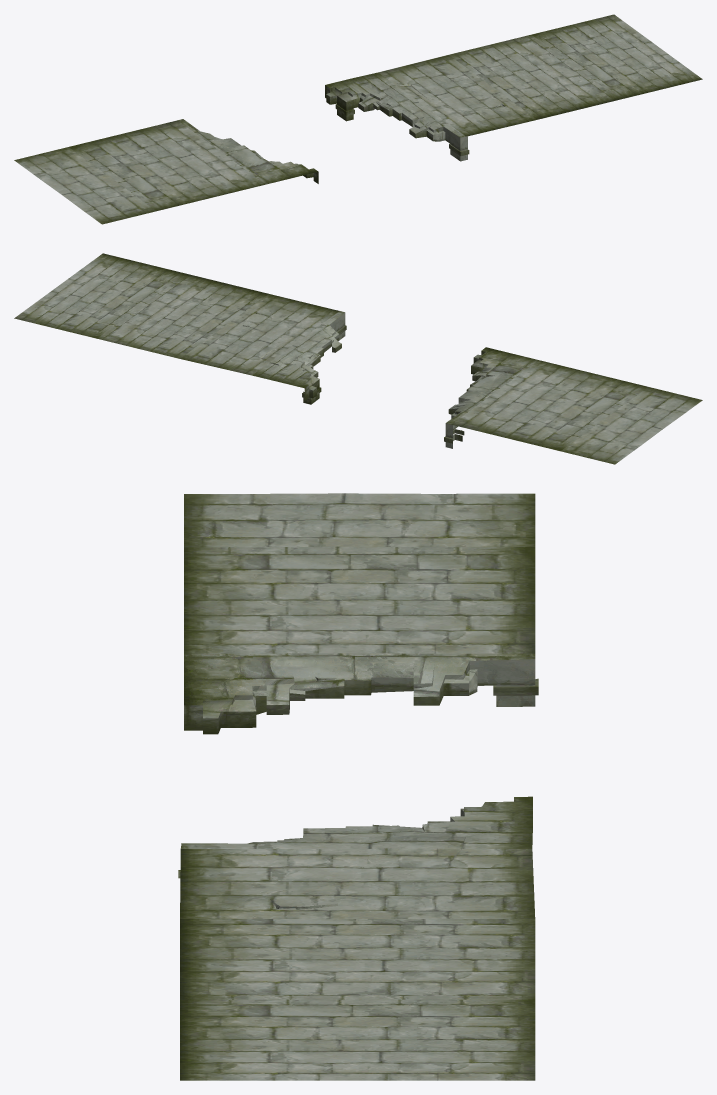
The model's file is jd_piao_2.FBX.
3 views of the same model, one above another, from view 1: azimuth 30°, elevation 25°; view 2: azimuth 150°, elevation 25°; view 3: azimuth 270°, elevation 25° (orthographic). The views are drawn at different scales.
Parts seen in each view (by area): view 1: jd_piao_2; view 2: jd_piao_2; view 3: jd_piao_2.
Boxes of the visible parts, left/top/right/bottom form: jd_piao_2: left=14, top=14, right=702, bottom=224; jd_piao_2: left=14, top=253, right=702, bottom=464; jd_piao_2: left=178, top=493, right=538, bottom=1080.
Size of the model in its own units: 4446 by 177 by 1155.
